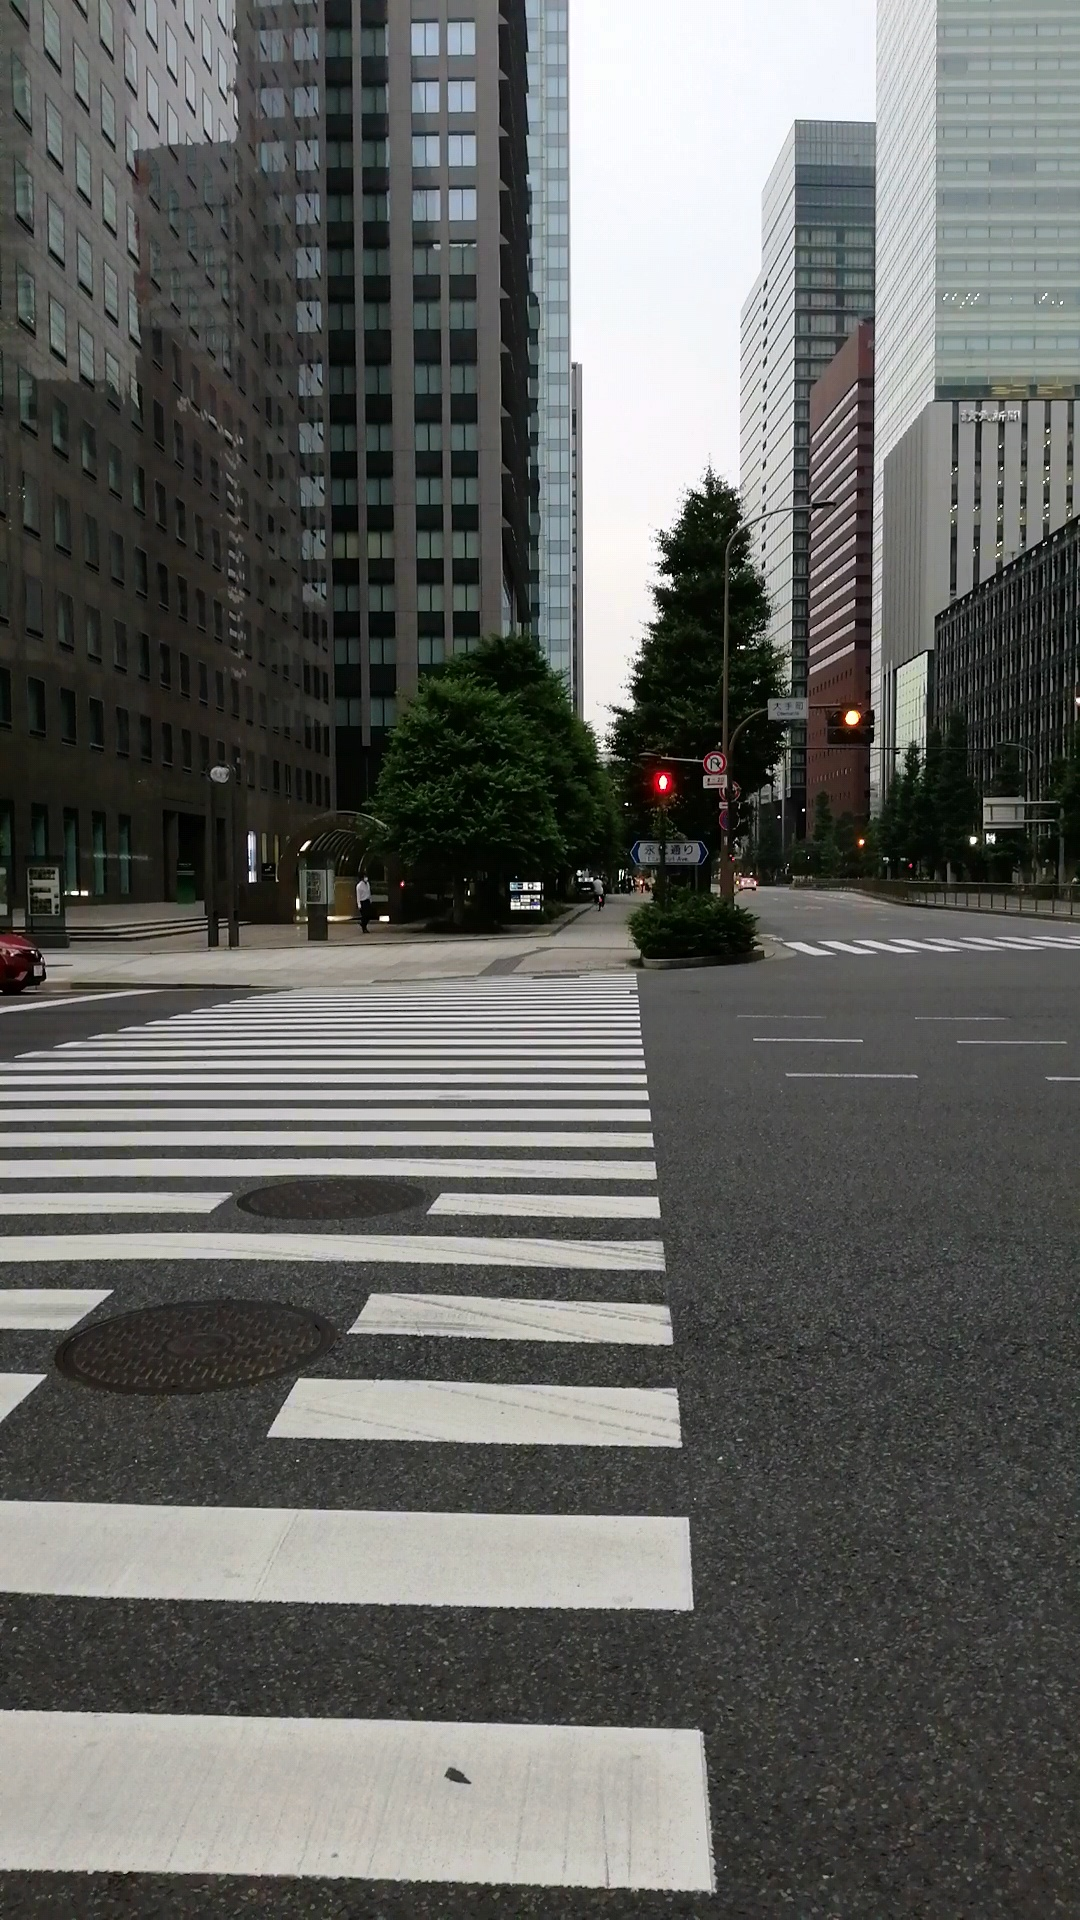red: (650, 767, 675, 810)
